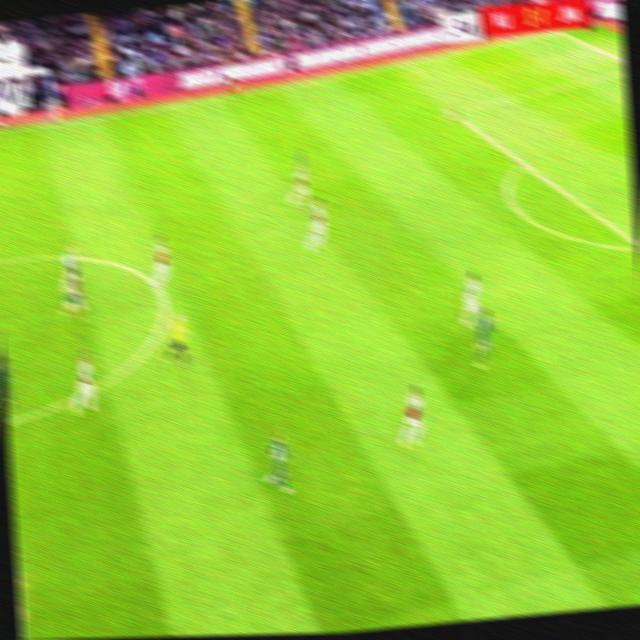bigarea_top_inner: (441, 103, 462, 122)
corner: (542, 28, 564, 38)
top_arc_area_intersection: (513, 155, 531, 174)
